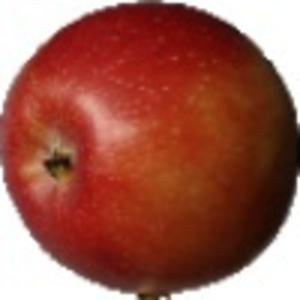maçã braeburn: (1, 1, 299, 294)
